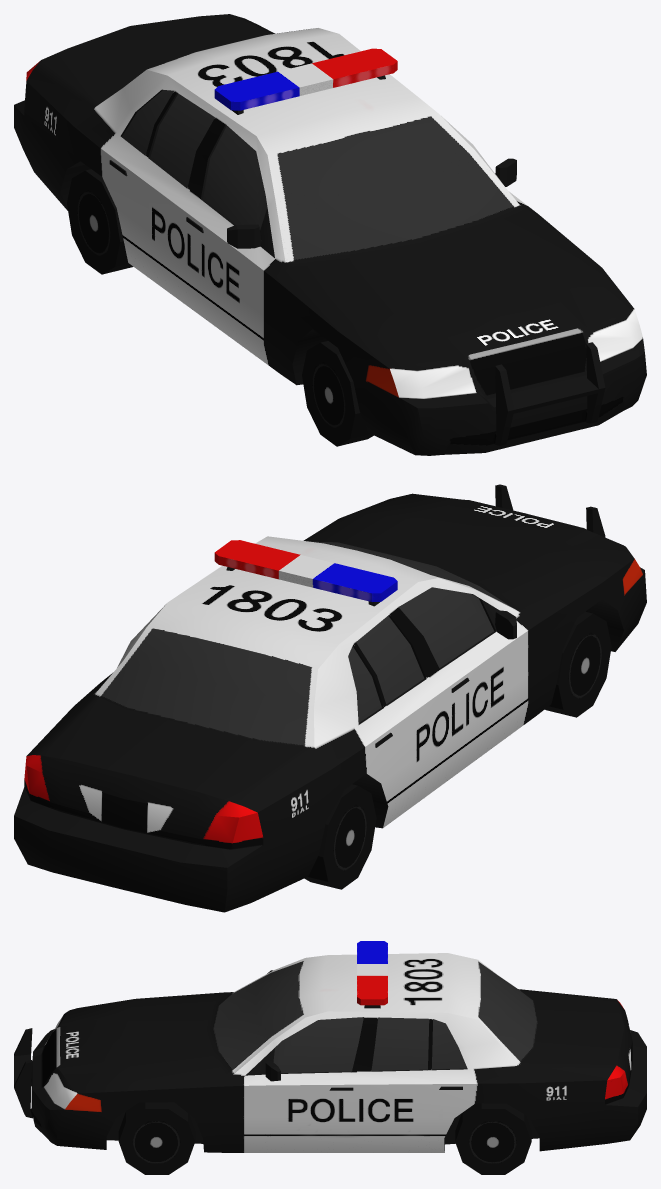
The model's file is carrop.obj.
3 views of the same model, one above another, from view 1: azimuth 30°, elevation 25°; view 2: azimuth 150°, elevation 25°; view 3: azimuth 270°, elevation 25° (orthographic). The views are drawn at different scales.
Visible parts, largest first — view 1: Cube.000_Cube.003; view 2: Cube.000_Cube.003; view 3: Cube.000_Cube.003.
Part boxes in pixels (<box>): Cube.000_Cube.003: <box>14,14,646,455</box>; Cube.000_Cube.003: <box>14,484,646,912</box>; Cube.000_Cube.003: <box>14,941,646,1174</box>.
Bounding box in the file's own units: 3.25 × 2.41 × 8.62.
1 material, 1 textured.
